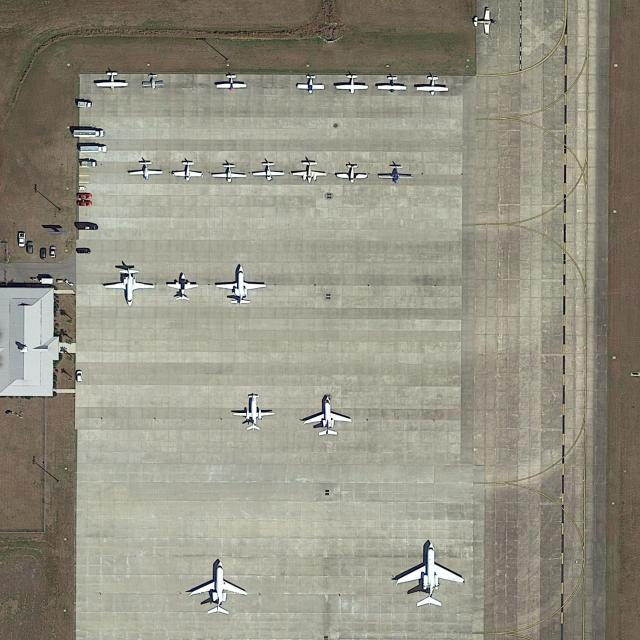large-vehicle: (73, 129, 104, 138), (80, 145, 107, 154), (79, 161, 98, 168)
plane: (395, 541, 465, 608), (185, 560, 252, 616), (215, 263, 268, 306), (302, 394, 353, 438), (101, 268, 157, 307), (231, 392, 276, 431), (166, 272, 198, 302), (292, 161, 328, 183), (471, 7, 497, 36), (416, 75, 451, 96), (171, 160, 205, 181), (335, 74, 369, 95), (211, 163, 246, 183), (335, 164, 369, 184), (129, 161, 164, 180), (252, 162, 285, 182), (379, 165, 413, 184), (96, 72, 129, 90), (297, 75, 326, 94), (377, 76, 407, 93), (217, 74, 247, 91), (141, 74, 164, 90)
small-vehicle: (76, 224, 99, 231), (18, 232, 26, 247), (77, 200, 92, 207), (26, 242, 34, 254), (77, 193, 92, 199), (76, 248, 90, 254), (76, 371, 83, 383), (50, 246, 56, 258), (40, 248, 46, 259)
